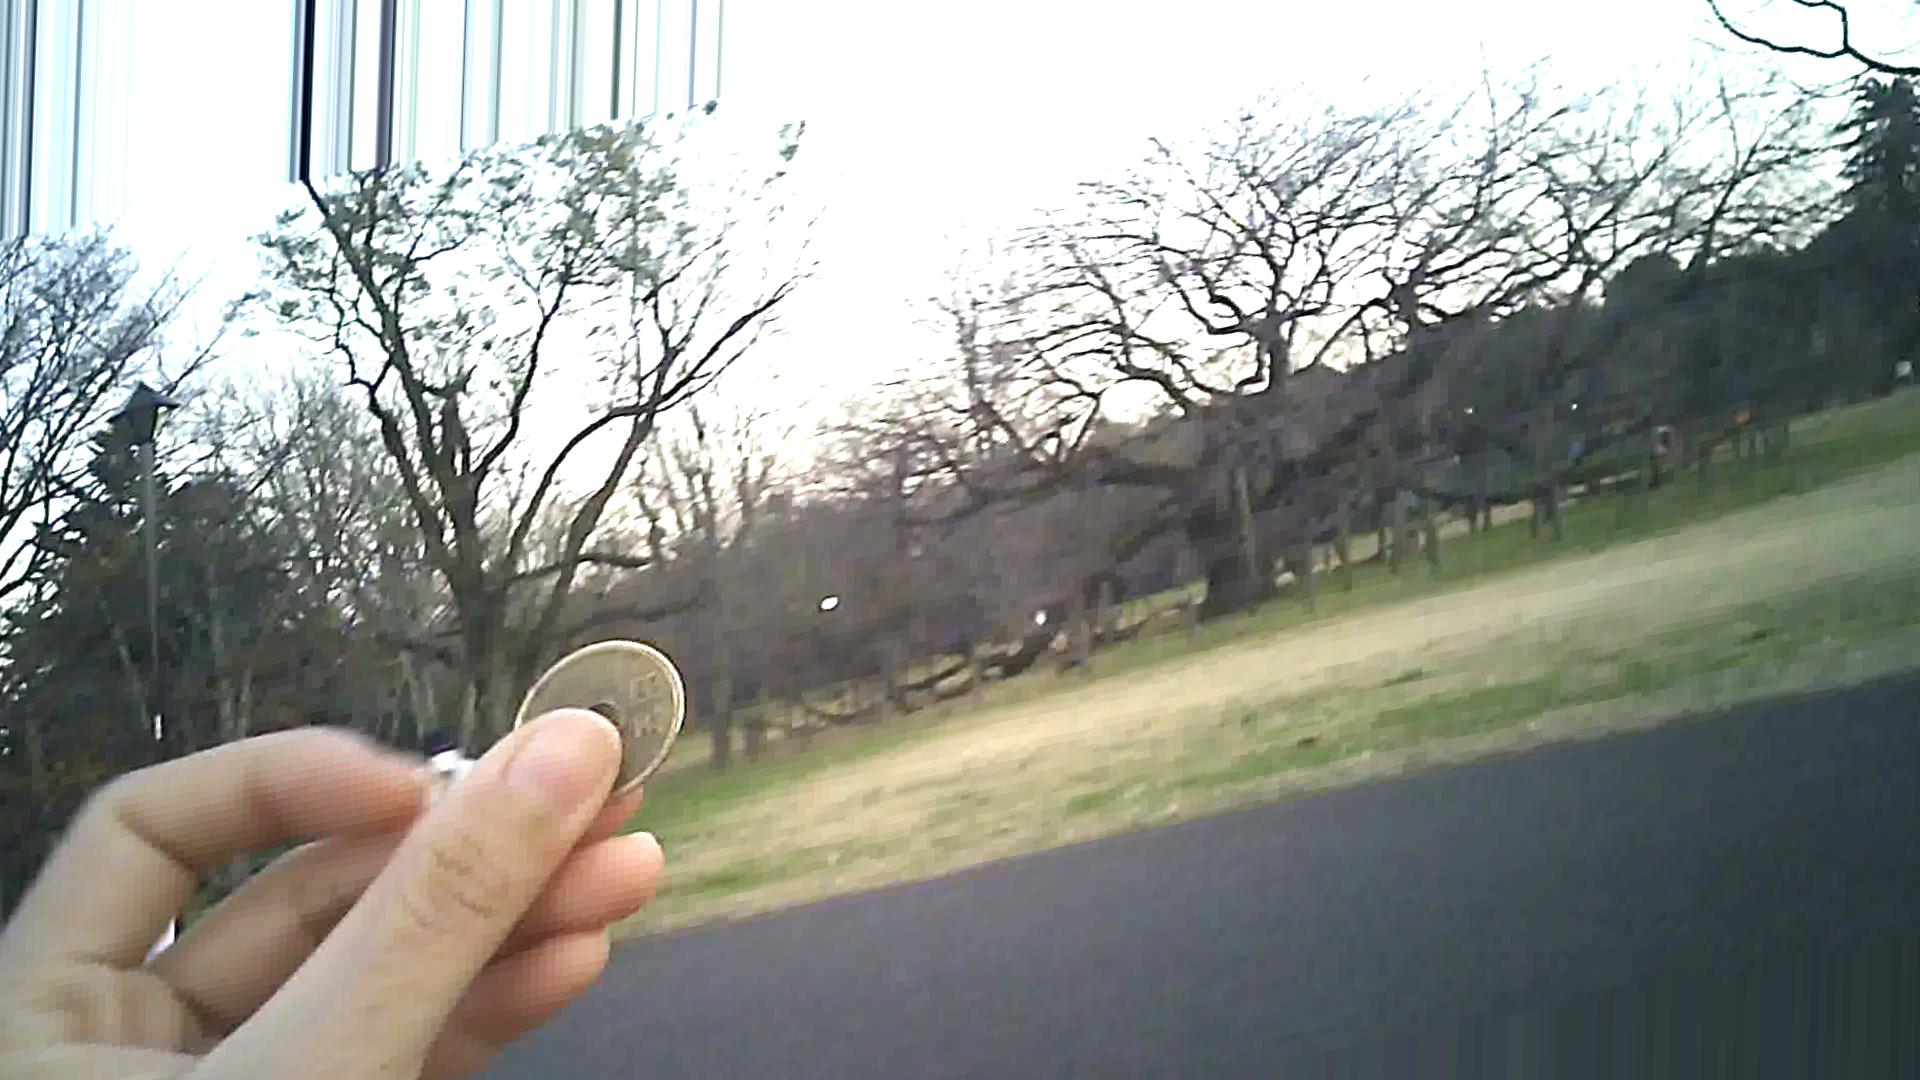5 Yen: (506, 629, 702, 808)
